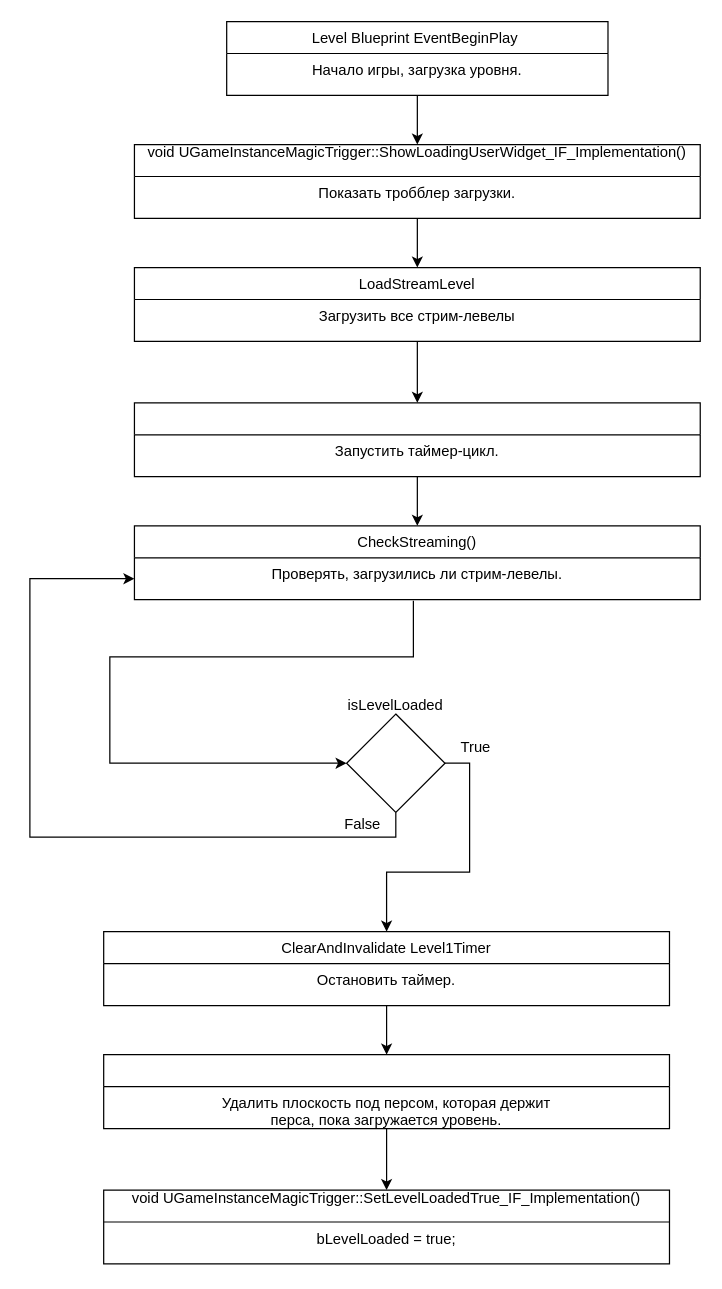
The diagram is 722 pixels wide and 1289 high, and some of its shapes have lost their labels. The shapes that lost their labels are listed below. From the top down, each one's box as (x1, y1, x2, y2) in pixels, then its label:
(133, 402, 700, 477): SetTimerByFunctionName("CheckStreaming") Level1Timer
(345, 713, 445, 812): If
(102, 1053, 669, 1129): PlayerStartPlane->Destroy()
